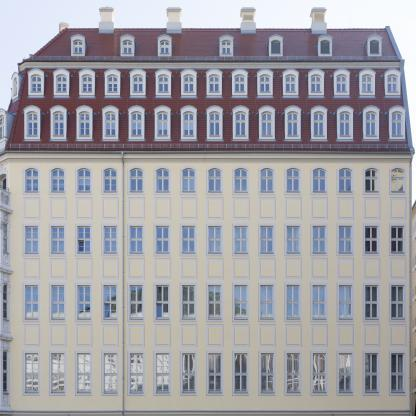Building Outline: (0, 6, 415, 416)
Facade: (0, 6, 415, 415)
Floor: (0, 280, 411, 344), (0, 350, 411, 410), (0, 159, 411, 215), (0, 221, 411, 274), (0, 105, 411, 154), (19, 68, 404, 100)
Floor Slab: (0, 215, 411, 221), (0, 153, 411, 159), (21, 62, 404, 68), (0, 410, 411, 415), (0, 344, 411, 349), (0, 274, 411, 279), (11, 100, 407, 105)
Roof: (0, 26, 415, 156)
Top Floor: (63, 29, 390, 63)
Window: (25, 354, 38, 393), (391, 353, 404, 392), (366, 353, 379, 392), (339, 353, 352, 392), (313, 353, 326, 392), (287, 353, 300, 392), (261, 353, 274, 392), (235, 354, 248, 393), (209, 354, 222, 393), (182, 354, 195, 393), (156, 354, 169, 393), (130, 354, 143, 393), (104, 354, 117, 393), (77, 354, 90, 393), (52, 354, 65, 393), (25, 285, 38, 318), (391, 285, 404, 318), (366, 285, 379, 318), (339, 285, 352, 318), (313, 285, 326, 318), (287, 285, 300, 318), (261, 285, 274, 318), (235, 285, 248, 318), (208, 285, 221, 318), (182, 285, 195, 318), (156, 285, 169, 318), (130, 285, 143, 318), (104, 285, 117, 318), (78, 285, 91, 318), (52, 285, 65, 318), (25, 226, 38, 252), (51, 226, 64, 252), (78, 226, 91, 252), (104, 226, 117, 252), (130, 226, 143, 252), (156, 226, 169, 251), (182, 226, 195, 251), (209, 226, 222, 251), (235, 226, 248, 251), (261, 226, 274, 251), (287, 226, 300, 251), (313, 226, 326, 251), (339, 226, 352, 251), (365, 226, 378, 251), (391, 226, 404, 251), (391, 168, 405, 191), (208, 168, 222, 191), (260, 168, 274, 191), (26, 111, 38, 136), (287, 111, 299, 136), (25, 168, 38, 191), (365, 168, 378, 191), (339, 168, 352, 191), (78, 168, 91, 191), (51, 168, 64, 191), (156, 168, 169, 191), (130, 168, 143, 191), (104, 168, 117, 191), (235, 168, 248, 191), (182, 168, 195, 191), (313, 168, 326, 191), (287, 168, 300, 191), (392, 111, 403, 136), (53, 111, 64, 136), (79, 111, 90, 136), (105, 111, 116, 136), (131, 111, 142, 136), (157, 111, 168, 136), (183, 111, 194, 136), (209, 111, 220, 136), (235, 111, 246, 136), (262, 111, 273, 136), (314, 111, 325, 136), (340, 111, 351, 136), (366, 111, 377, 136), (56, 74, 67, 91), (107, 74, 118, 91), (158, 74, 169, 91), (183, 74, 194, 91), (209, 74, 220, 91), (234, 74, 245, 91), (285, 74, 296, 91), (311, 74, 322, 91), (362, 74, 373, 91), (387, 74, 398, 91), (31, 74, 41, 91), (82, 74, 92, 91), (133, 74, 143, 91), (260, 74, 270, 91), (337, 74, 347, 91), (320, 39, 330, 54), (122, 39, 132, 54), (73, 39, 83, 53), (370, 39, 379, 54), (271, 39, 280, 54), (222, 39, 231, 54), (160, 39, 169, 54)
